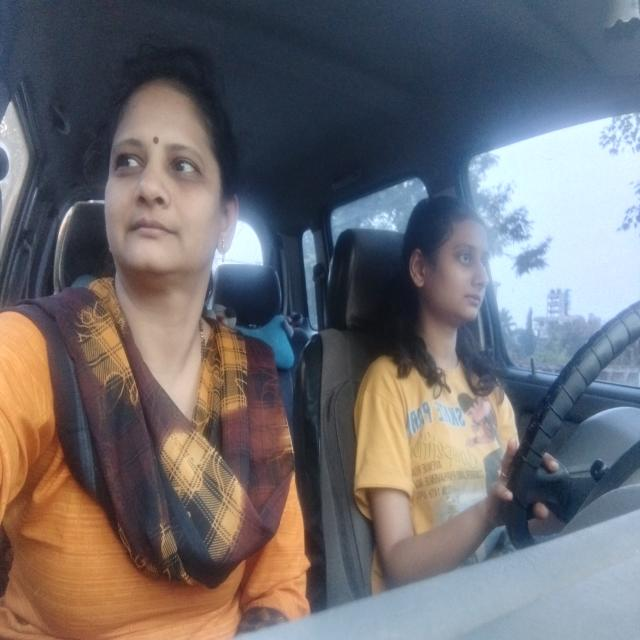person: (96, 48, 251, 297), (397, 187, 510, 353)
